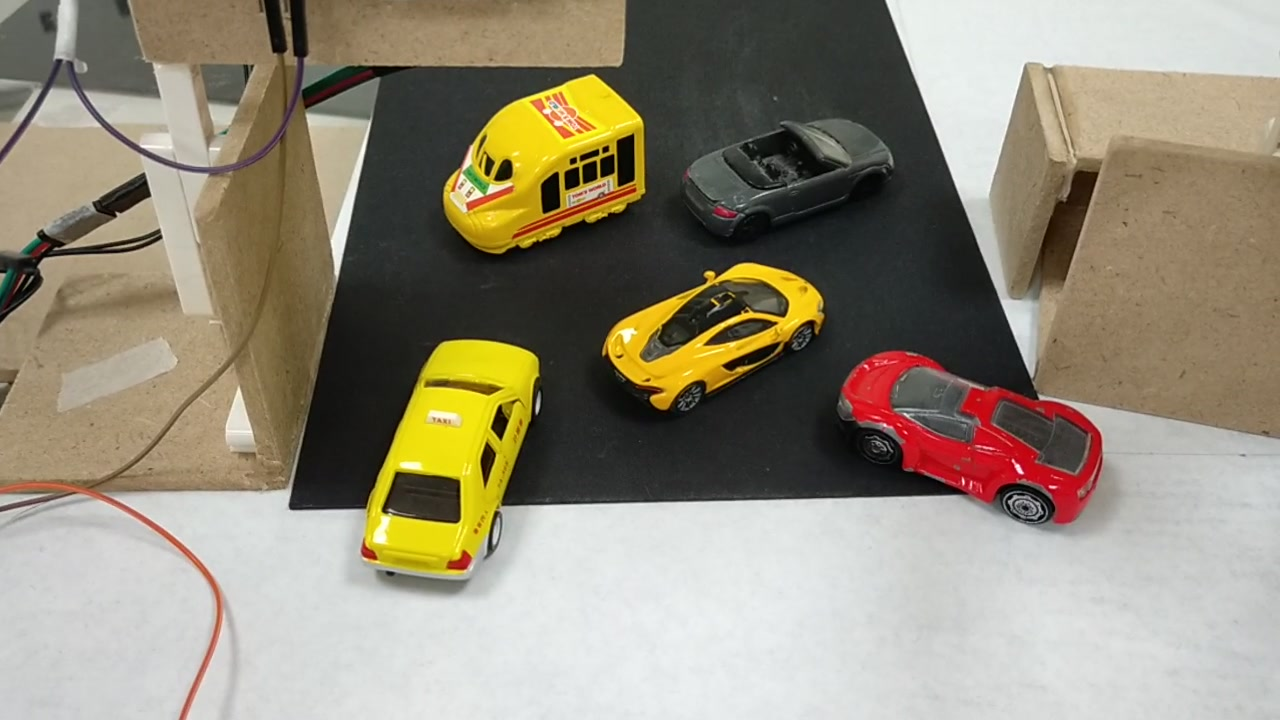car: (833, 344, 1103, 526), (359, 348, 545, 571), (677, 110, 902, 252), (595, 270, 822, 409)
